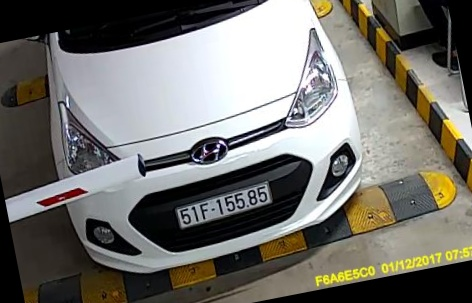plate: (168, 177, 278, 234)
